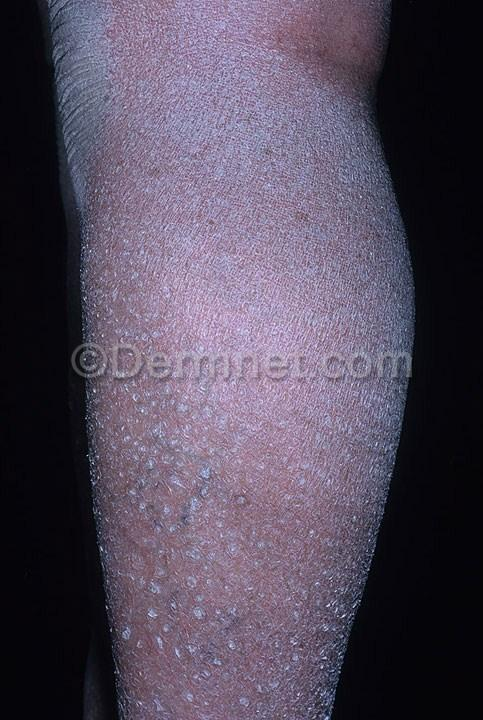Eritema 2: (290, 0, 399, 81)
xerosis 3: (44, 0, 417, 719)
